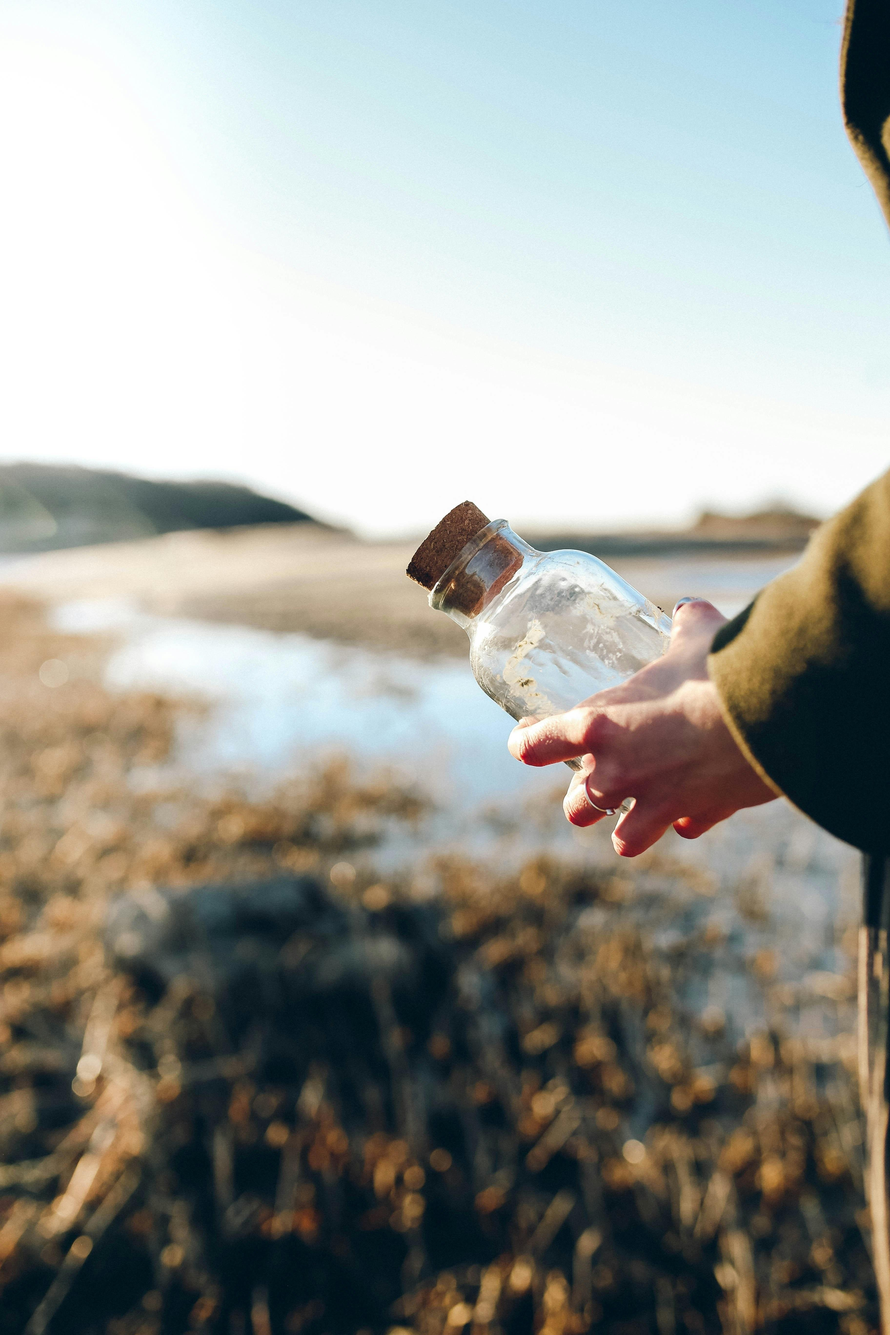Bottle-Detection: (366, 451, 722, 795)
